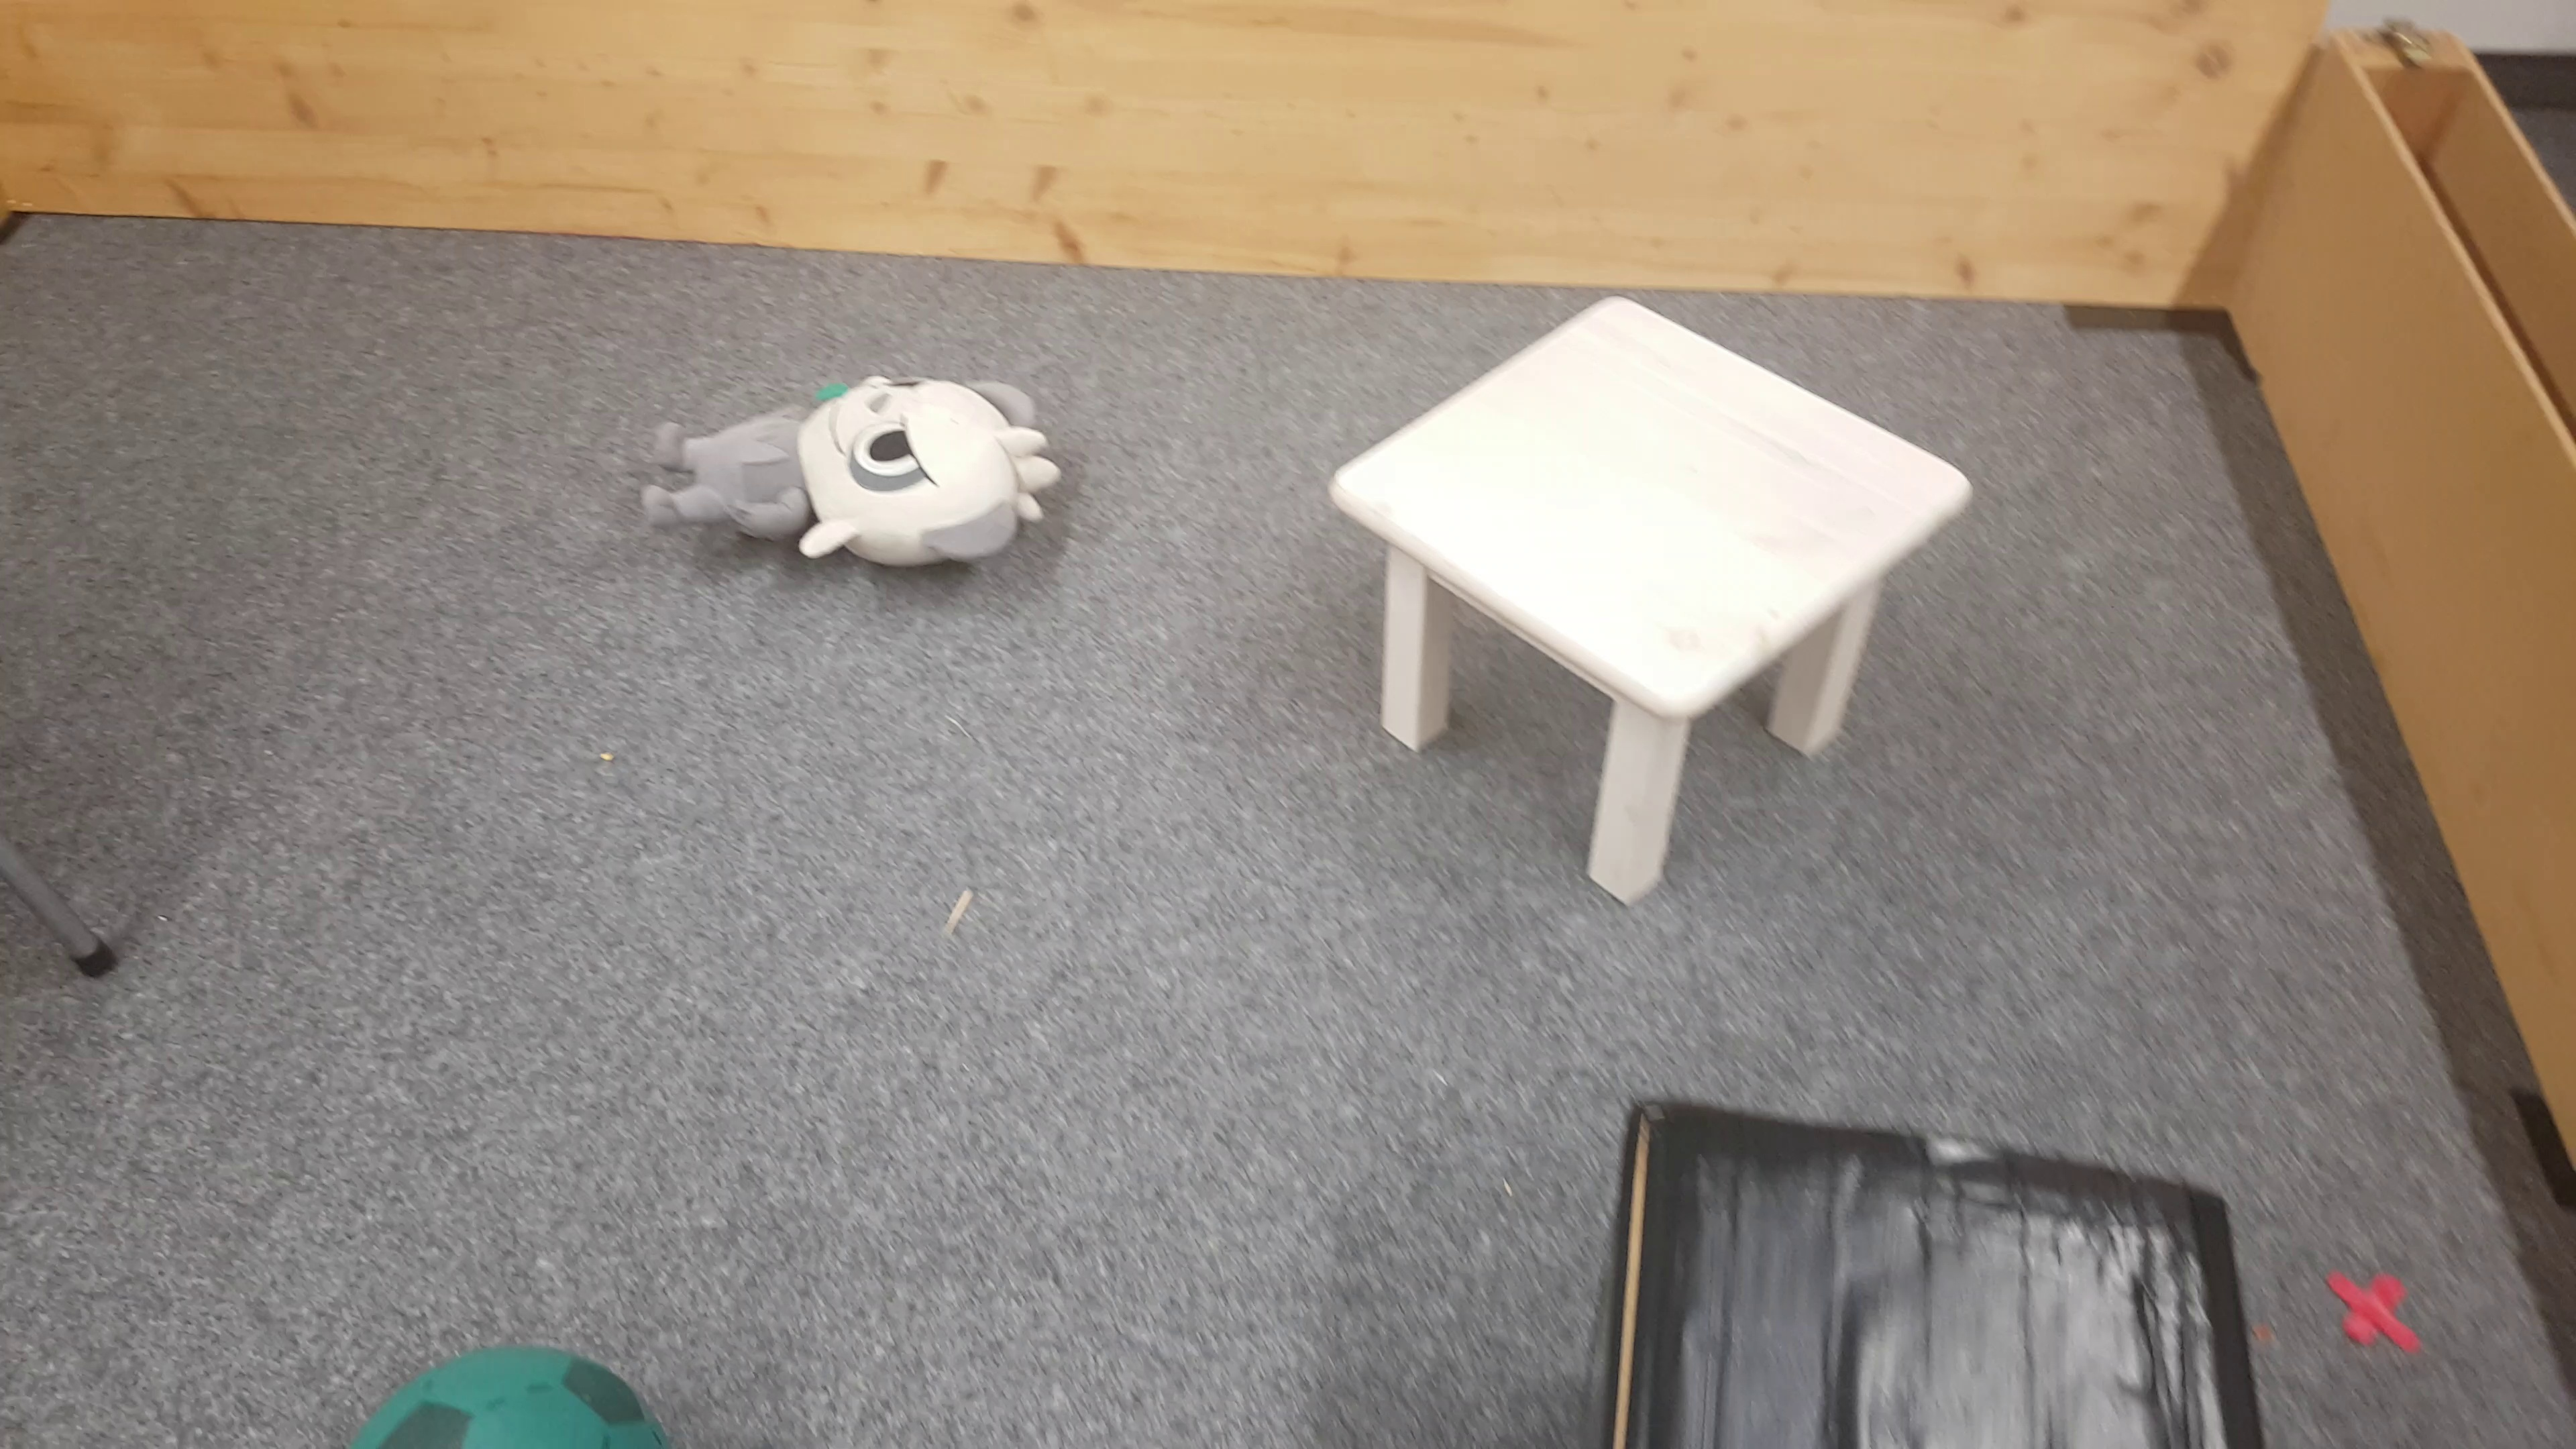grasp: (646, 366, 1060, 577)
kick: (352, 1348, 655, 1449)
push: (1599, 1097, 2258, 1449)
